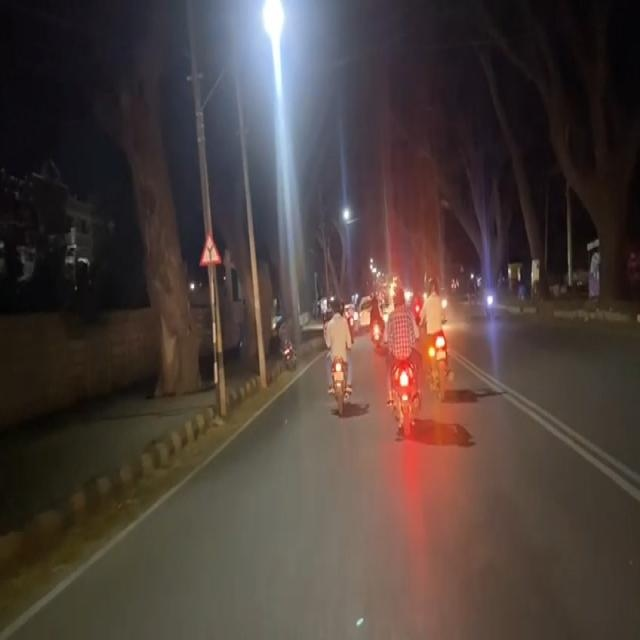bien_nguy_hiem: (199, 226, 222, 266)
